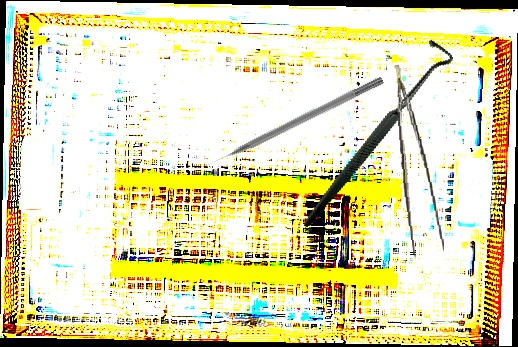Hook Surgical: (256, 34, 492, 228)
Pusher: (200, 73, 385, 172)
Tissue Forceps: (394, 62, 445, 260)
